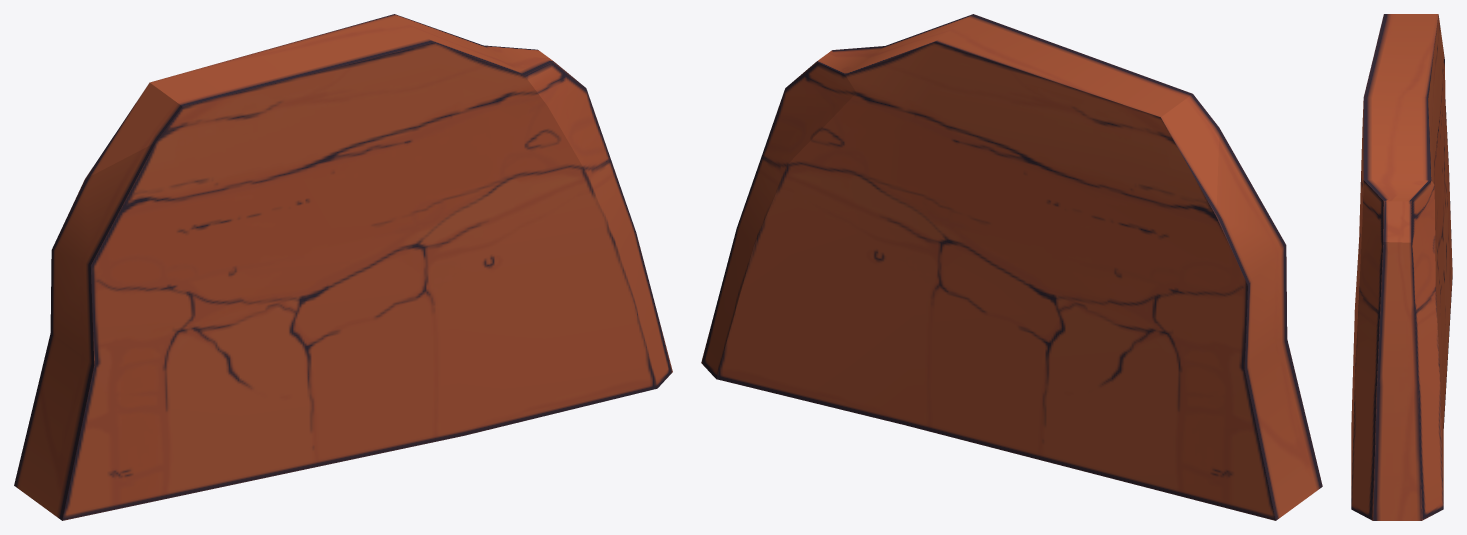
The model's file is SmallWall_1.fbx.
3 views of the same model, side by side, from view 1: azimuth 30°, elevation 25°; view 2: azimuth 150°, elevation 25°; view 3: azimuth 270°, elevation 25° (orthographic). The views are drawn at different scales.
Visible parts, largest first — view 1: Wall_2; view 2: Wall_2; view 3: Wall_2.
Part boxes in pixels (x1,y1,x2,y2): Wall_2: [14, 14, 672, 520]; Wall_2: [701, 14, 1322, 520]; Wall_2: [1351, 14, 1452, 520].
Size of the model in its own units: 598 by 104 by 368.
